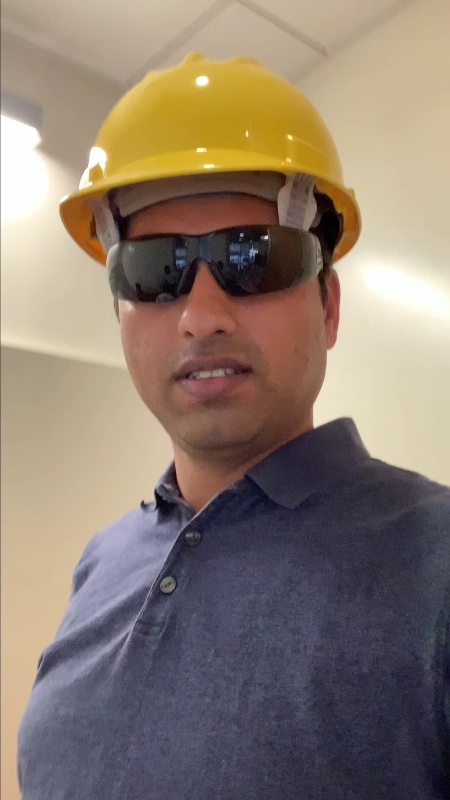glasses: (105, 221, 324, 305)
helmet: (59, 54, 363, 232)
